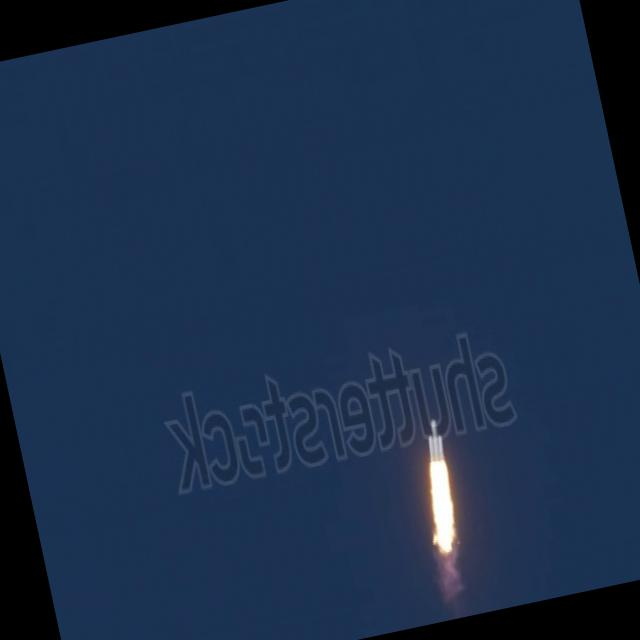rocket: (412, 419, 467, 548)
